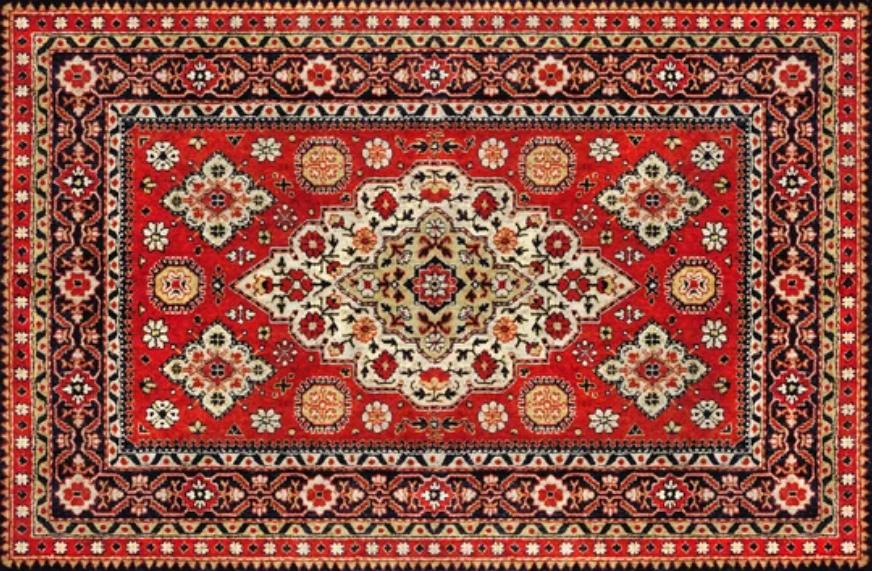carpet: (0, 3, 870, 567)
